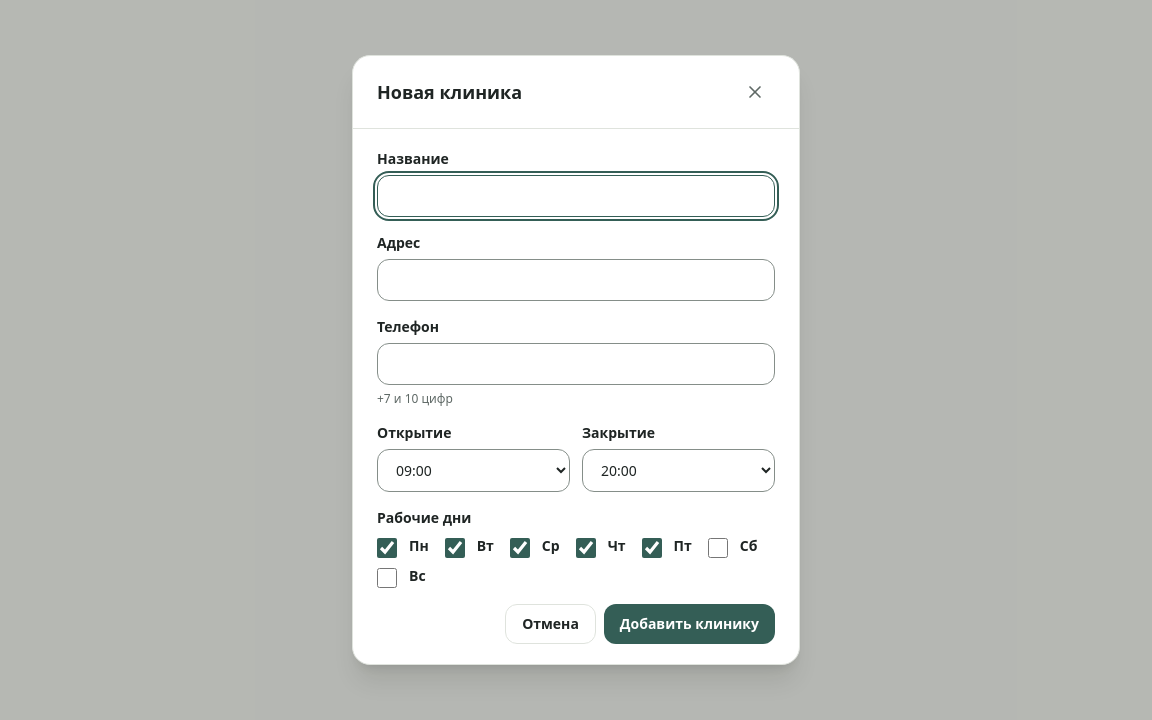
ClinicFormModal: добавление › 422 от сервера — ошибка у поля
Type "Лапа" into the field labelled "Название" at (576, 196), box [377, 175, 775, 217]
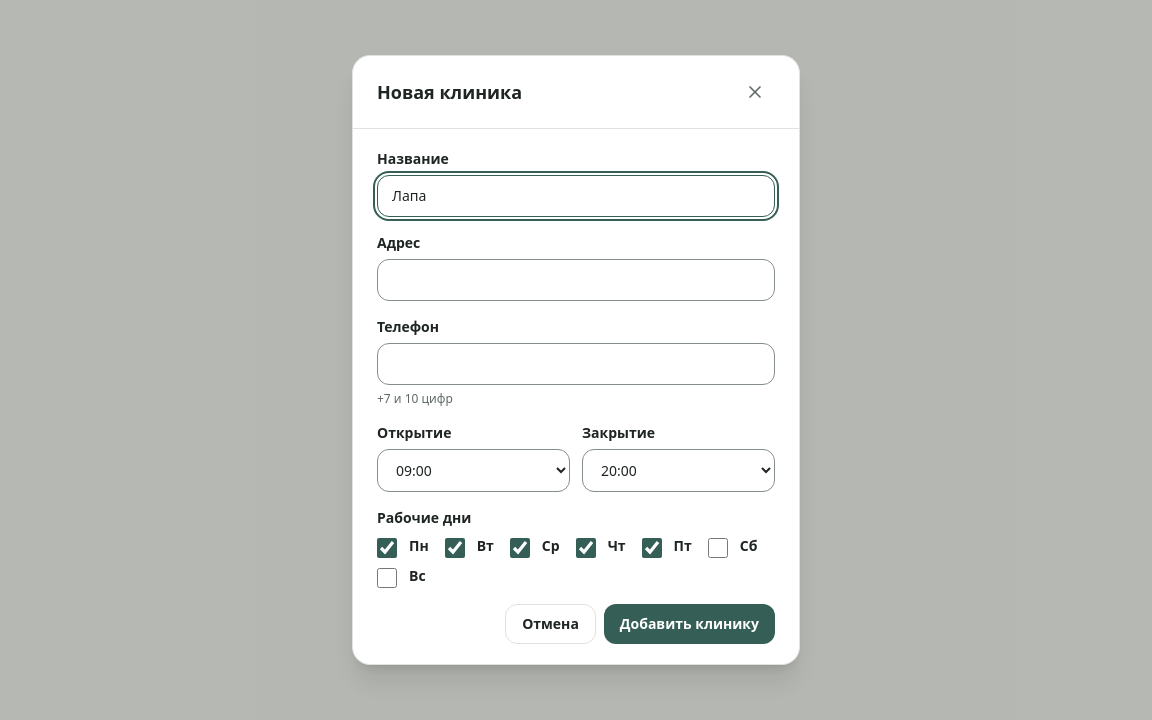
Type "ул. Мира, 1" into the field labelled "Адрес" at (576, 280), box [377, 259, 775, 301]
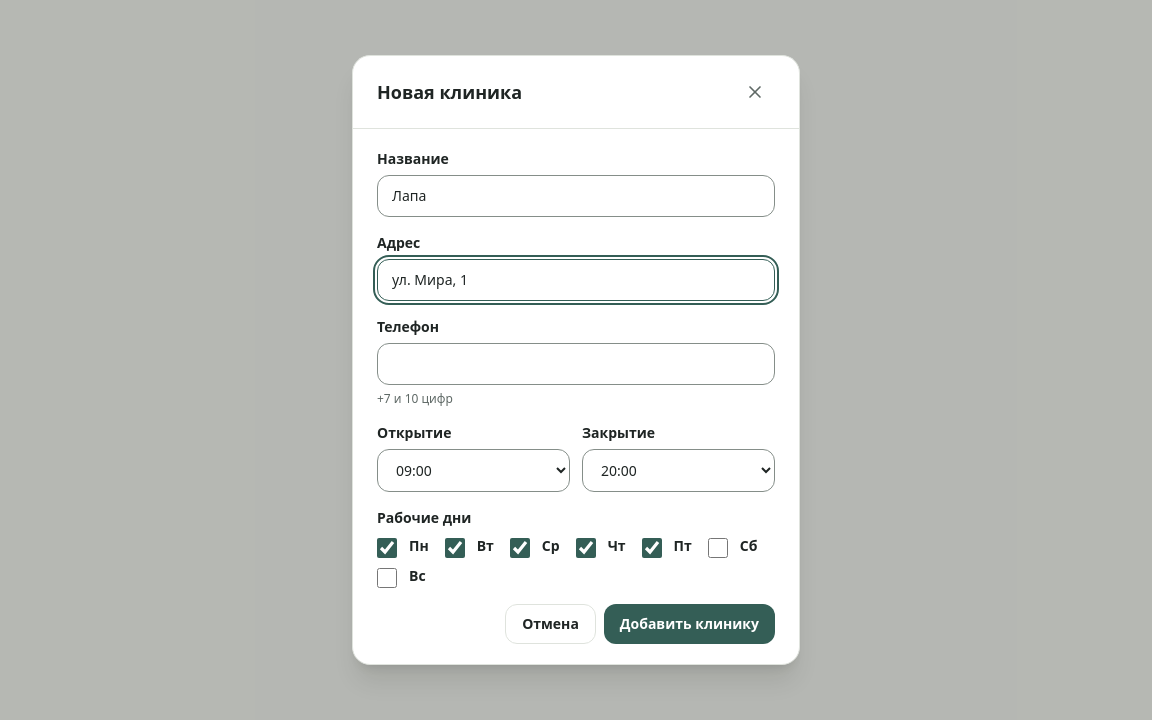
Type "8 (999) 777-88-99" into the field labelled "Телефон" at (576, 364), box [377, 343, 775, 385]
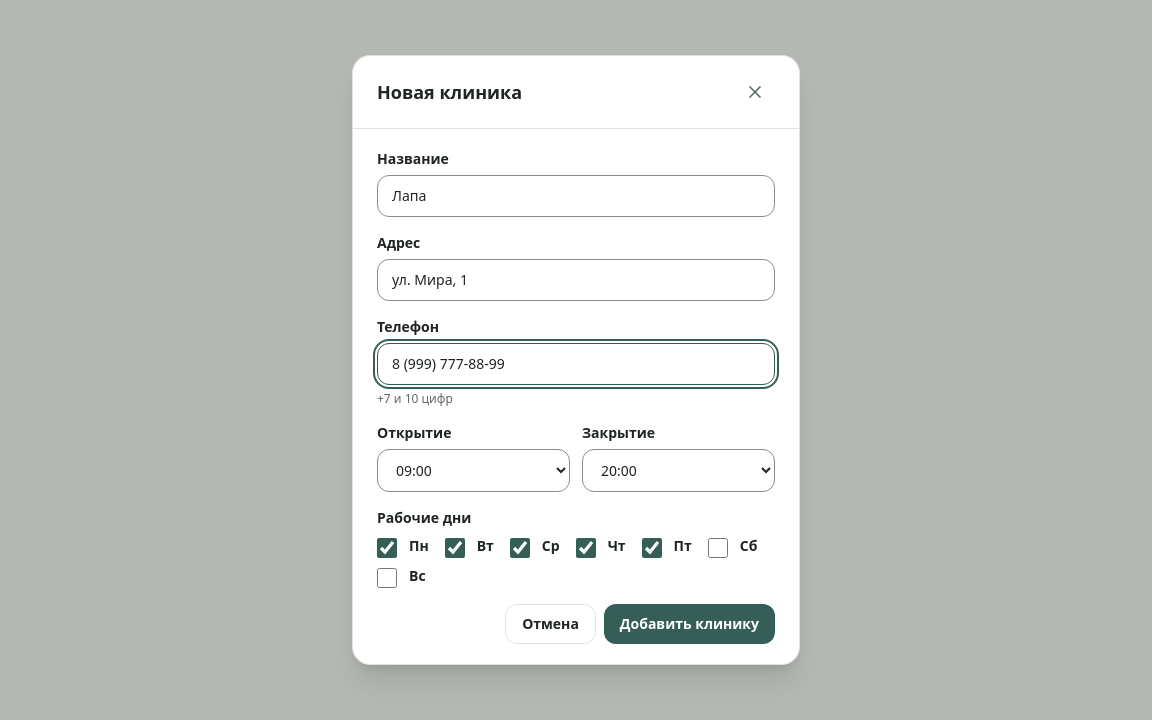
Click the button "Добавить клинику" at (689, 624), box [604, 604, 775, 644]
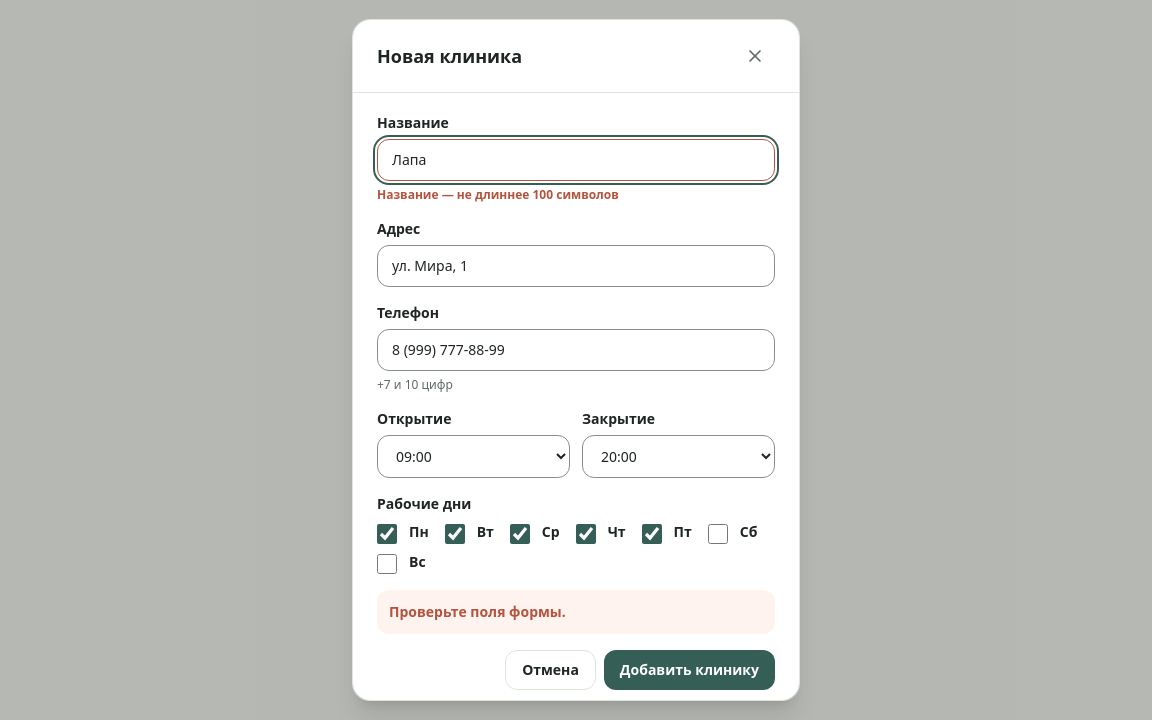
expect the text "Название — не длиннее 100 символов" is shown: met, box [377, 186, 619, 203]
